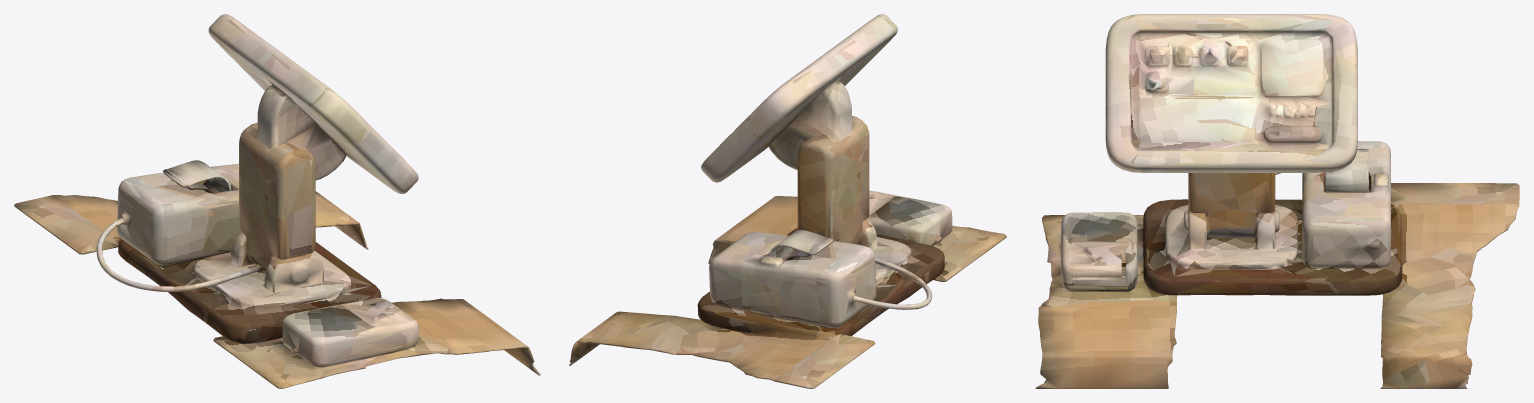
The model's file is JP_사물_s2_prop_pos.glb.
3 renders of one model, left to right at view 1: azimuth 30°, elevation 25°; view 2: azimuth 150°, elevation 25°; view 3: azimuth 270°, elevation 25°, orthographic. The views are drawn at different scales.
Parts seen in each view (by area): view 1: tripo_node_5bc5b3b3-1b20-49e9-89a6-9dbcbab9d38b; view 2: tripo_node_5bc5b3b3-1b20-49e9-89a6-9dbcbab9d38b; view 3: tripo_node_5bc5b3b3-1b20-49e9-89a6-9dbcbab9d38b.
Part boxes in pixels (x1,y1,x2,y2): tripo_node_5bc5b3b3-1b20-49e9-89a6-9dbcbab9d38b: (14, 14, 540, 388); tripo_node_5bc5b3b3-1b20-49e9-89a6-9dbcbab9d38b: (569, 14, 1006, 388); tripo_node_5bc5b3b3-1b20-49e9-89a6-9dbcbab9d38b: (1035, 14, 1519, 388).
Size of the model in its own units: 0.7188 by 0.6685 by 0.9992.
1 material, 1 textured.
